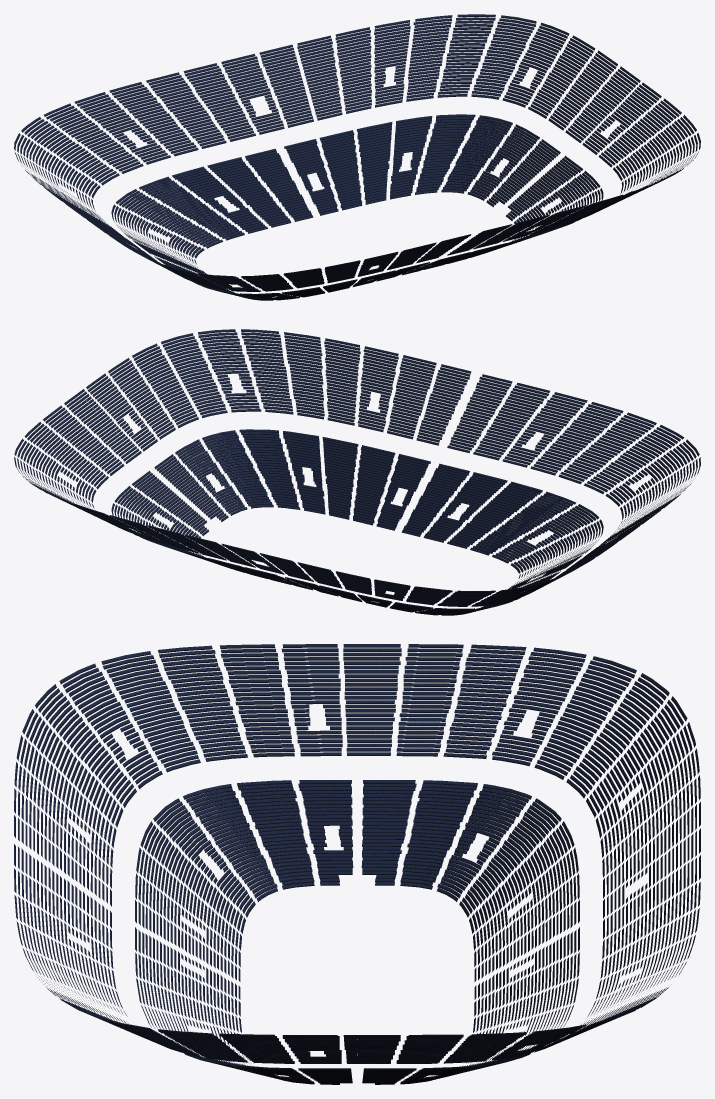
File: seats_far.glb
3 views of the same model, one above another, from view 1: azimuth 30°, elevation 25°; view 2: azimuth 150°, elevation 25°; view 3: azimuth 270°, elevation 25° (orthographic). The views are drawn at different scales.
Visible parts, largest first — view 1: bands, fill_upper; view 2: bands, fill_club, fill_upper, fill_clubLevel, fill_sideline; view 3: bands, fill_endzone, fill_club, fill_upper, fill_clubLevel, fill_sideline.
Boxes of the visible parts, left/top/right/bottom form: bands: left=14, top=14, right=700, bottom=300; fill_upper: left=396, top=236, right=501, bottom=267; bands: left=14, top=329, right=700, bottom=615; fill_club: left=357, top=472, right=470, bottom=531; fill_upper: left=396, top=407, right=502, bottom=458; fill_clubLevel: left=377, top=451, right=481, bottom=494; fill_sideline: left=391, top=518, right=499, bottom=553; bands: left=14, top=644, right=700, bottom=1084; fill_endzone: left=279, top=846, right=435, bottom=889; fill_club: left=167, top=909, right=222, bottom=1007; fill_upper: left=75, top=850, right=111, bottom=942; fill_clubLevel: left=135, top=891, right=165, bottom=975; fill_sideline: left=210, top=902, right=244, bottom=989.
Bounding box in the file's own units: 237 × 41.2 × 176.
Materials: 1 (1 with a texture image).
